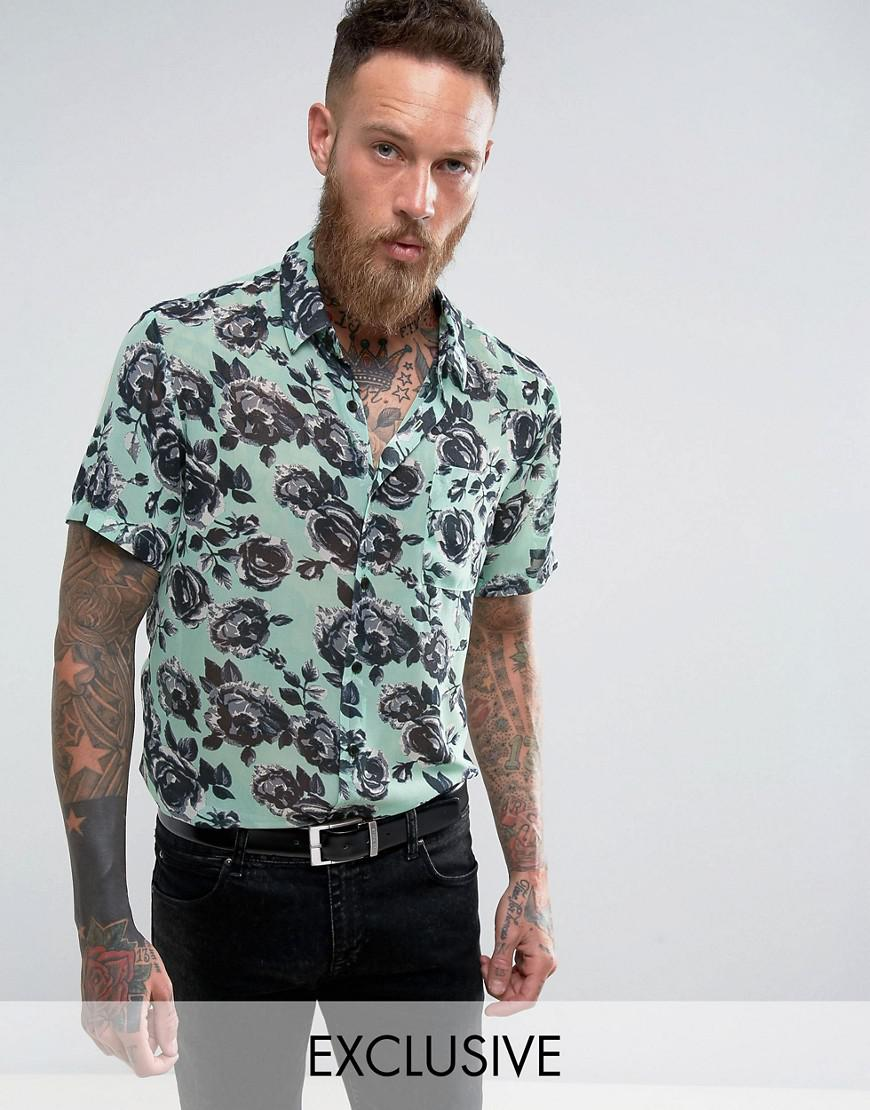teeshirt: (68, 217, 566, 849)
